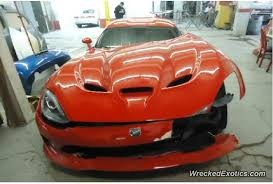Dent: (173, 64, 244, 165)
